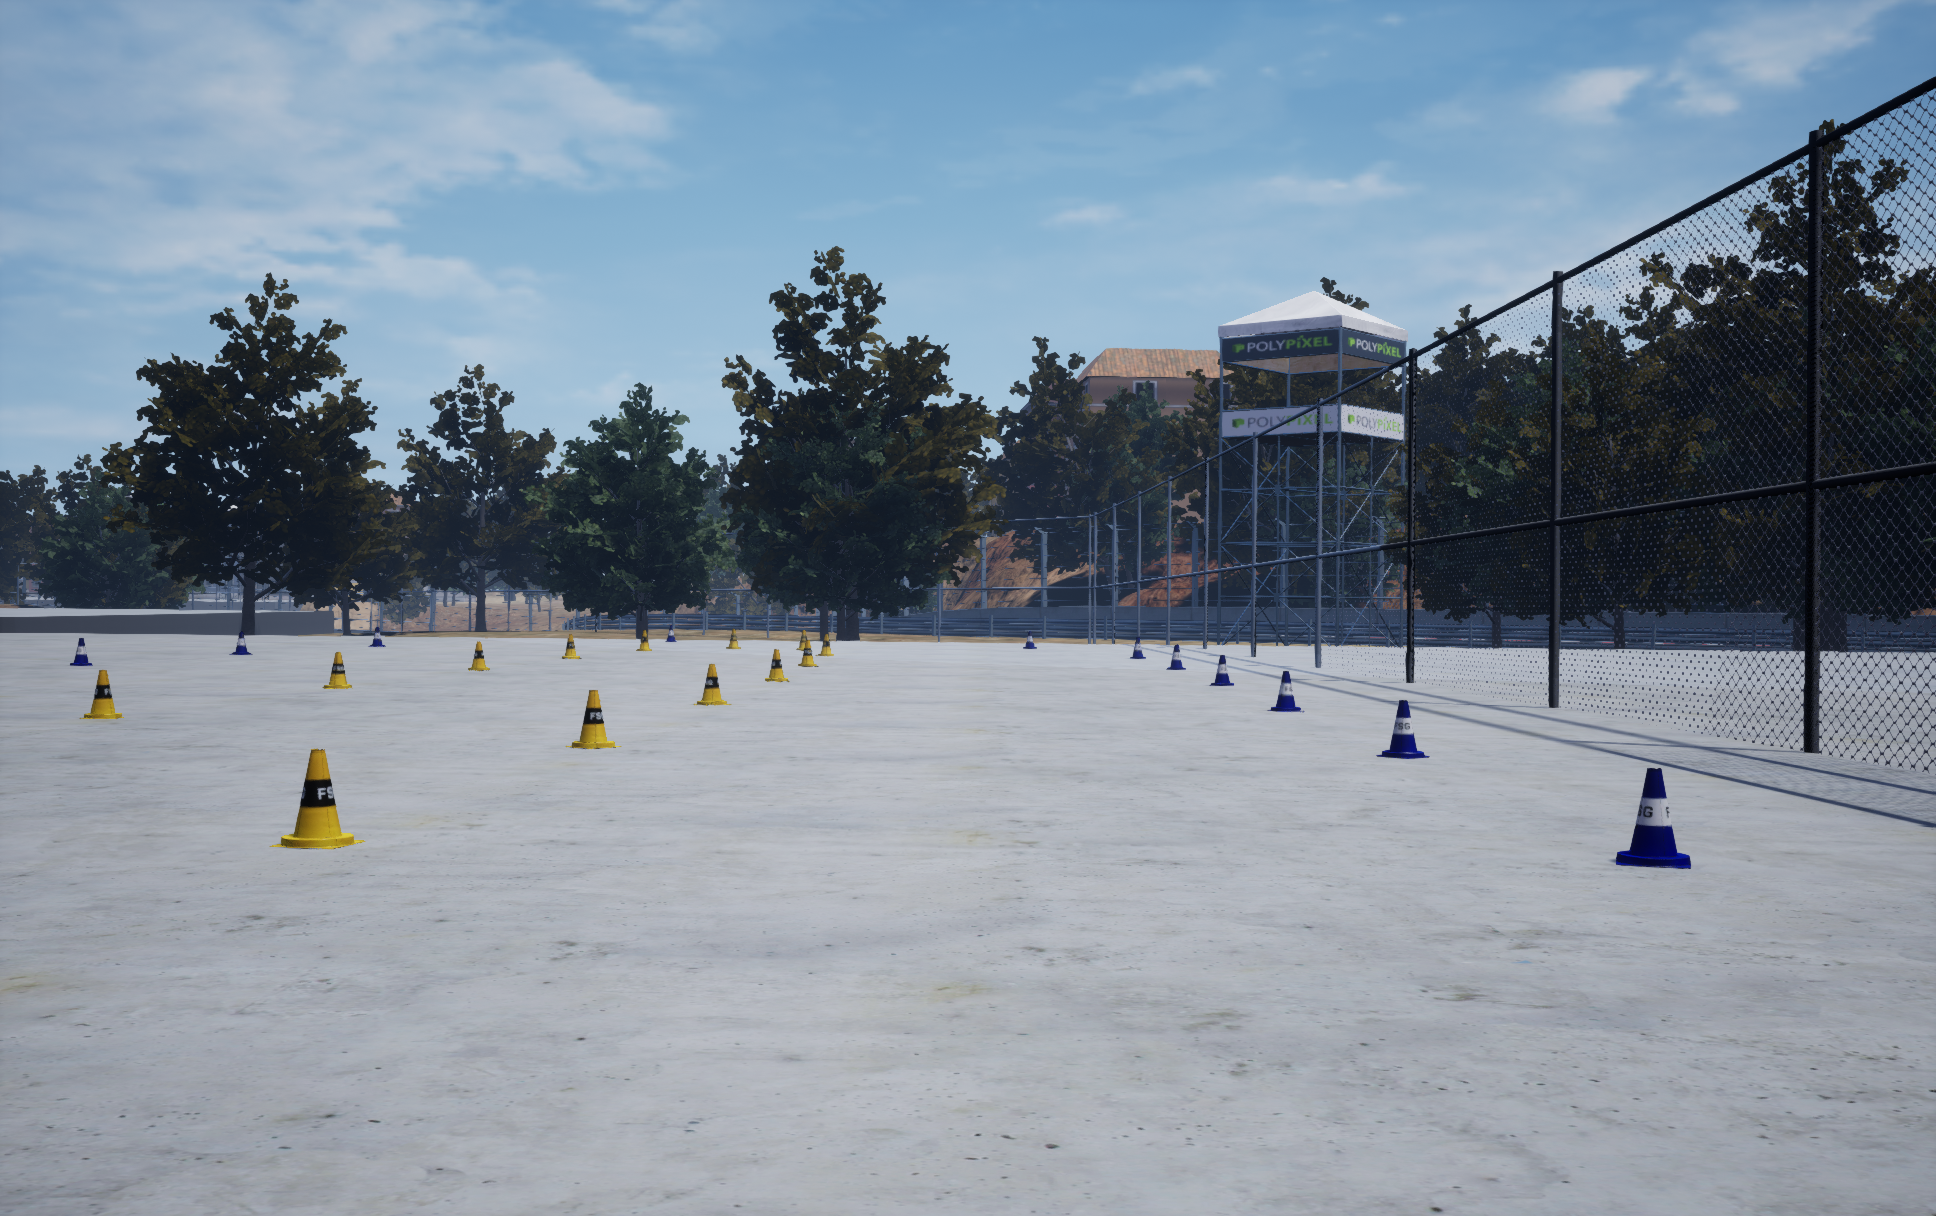blue: (269, 749, 366, 848), (565, 691, 621, 748), (78, 670, 123, 719), (693, 664, 731, 705), (322, 651, 352, 688), (765, 649, 789, 681), (468, 642, 489, 670), (798, 640, 818, 665), (562, 635, 581, 658), (815, 635, 834, 656), (636, 630, 651, 650), (726, 629, 740, 649)
yellow: (1617, 768, 1689, 869), (1376, 700, 1429, 758), (1266, 671, 1304, 712), (1209, 656, 1233, 685), (70, 637, 92, 665), (228, 630, 252, 654), (1166, 644, 1185, 670), (368, 628, 385, 646), (1131, 637, 1145, 658), (1023, 630, 1037, 649)
